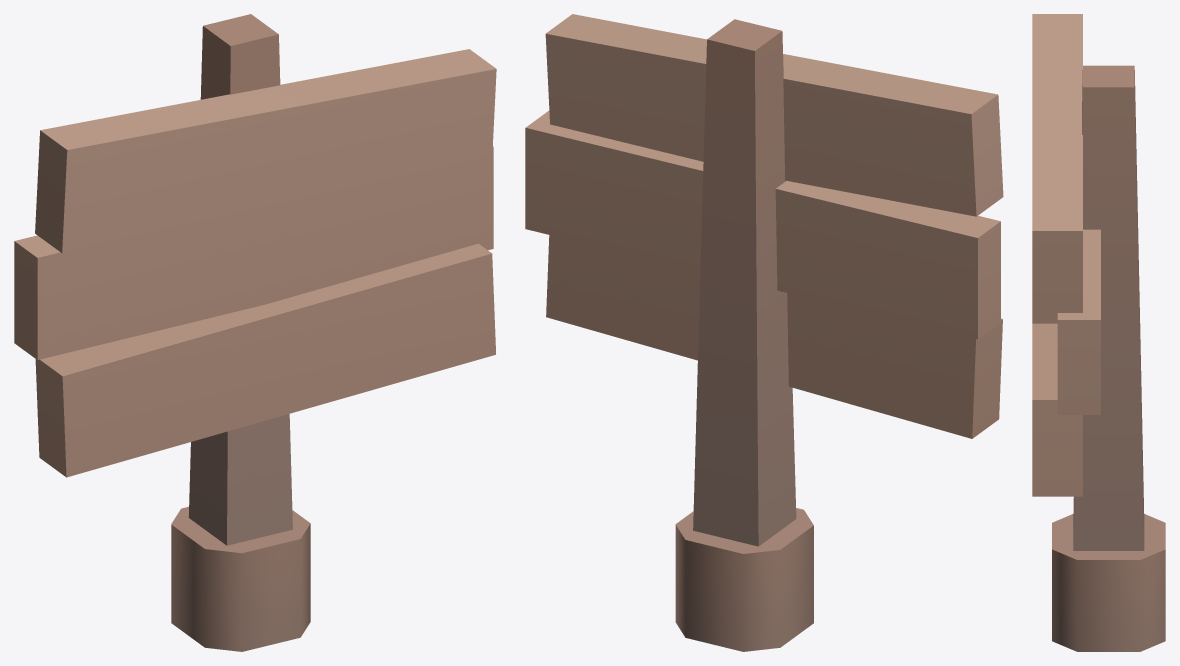
The model's file is signpost.gltf.
The picture shows the model from 3 angles, left to right: view 1: azimuth 30°, elevation 25°; view 2: azimuth 150°, elevation 25°; view 3: azimuth 270°, elevation 25°; orthographic projection. The views are drawn at different scales.
Visible parts, largest first — view 1: signpost; view 2: signpost; view 3: signpost.
Boxes of the visible parts, bbox=[...] form: signpost: bbox=[14, 14, 496, 651]; signpost: bbox=[525, 14, 1003, 651]; signpost: bbox=[1032, 14, 1165, 651].
Bounding box in the file's own units: 0.4835 × 0.6 × 0.1314.
